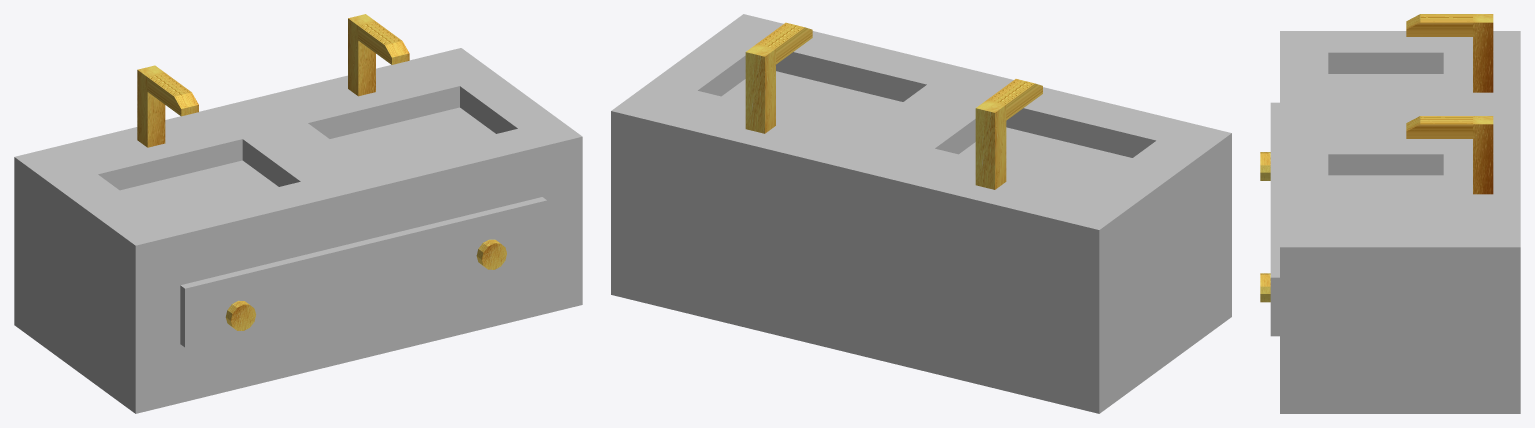
Rendered from double vasque.fbx.
3 views of the same model, side by side, from view 1: azimuth 30°, elevation 25°; view 2: azimuth 150°, elevation 25°; view 3: azimuth 270°, elevation 25° (orthographic). The views are drawn at different scales.
Visible parts, largest first — view 1: meuble5; view 2: meuble5; view 3: meuble5.
Boxes of the visible parts, bbox=[...] form: meuble5: bbox=[14, 14, 582, 413]; meuble5: bbox=[611, 14, 1231, 413]; meuble5: bbox=[1260, 14, 1520, 413].
Size of the model in its own units: 1.87 by 0.9538 by 0.95.
